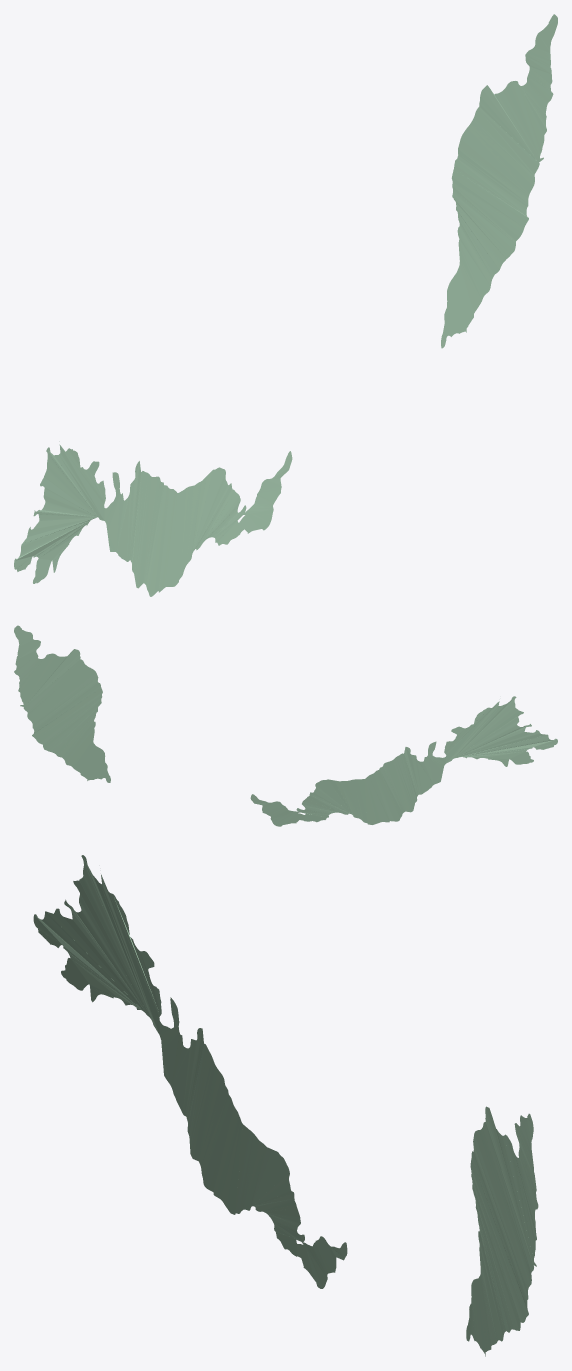
File: malaysia.glb
3 views of the same model, one above another, from view 1: azimuth 30°, elevation 25°; view 2: azimuth 150°, elevation 25°; view 3: azimuth 270°, elevation 25° (orthographic). The views are drawn at different scales.
Visible parts, largest first — view 1: Plane; view 2: Plane; view 3: Plane.
Boxes of the visible parts, <box> form: Plane: <box>14,14,557,596</box>; Plane: <box>14,625,557,826</box>; Plane: <box>33,855,538,1356</box>.
Size of the model in its own units: 3.58 by 1.55 by 1.87.
